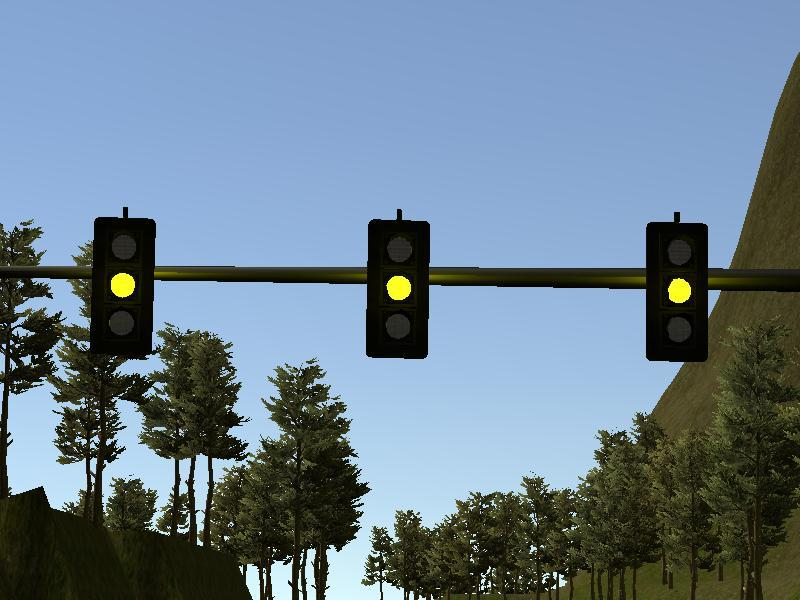Yellow: (647, 221, 709, 363), (370, 219, 429, 359), (93, 217, 152, 356)
